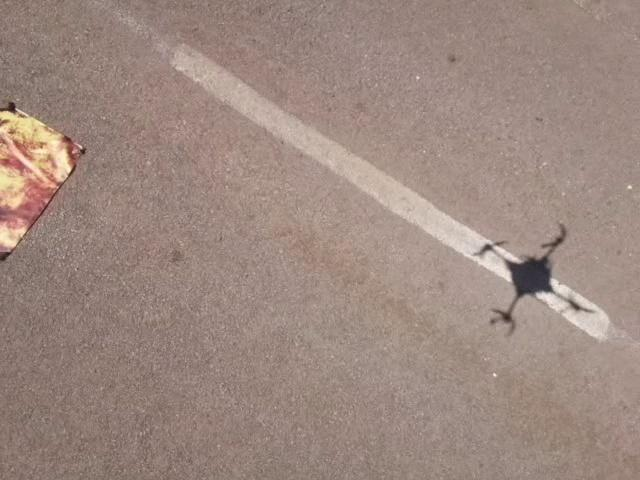fire-poster: (0, 99, 86, 263)
